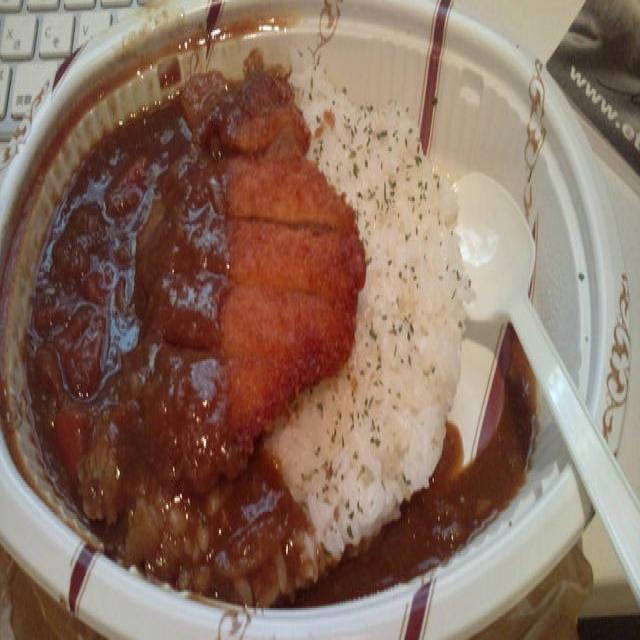猪肉菜式: (24, 43, 532, 583)
